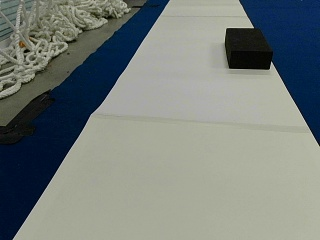block: (224, 27, 271, 70)
